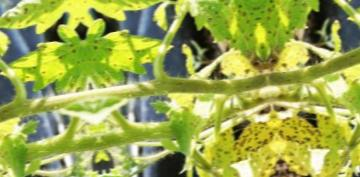Tomato Septoria leaf spot: (207, 99, 284, 177), (186, 0, 266, 74), (80, 14, 161, 86), (72, 0, 166, 25), (210, 174, 293, 177)
